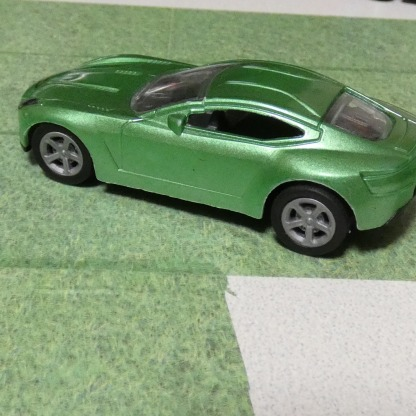car: (17, 53, 414, 259)
